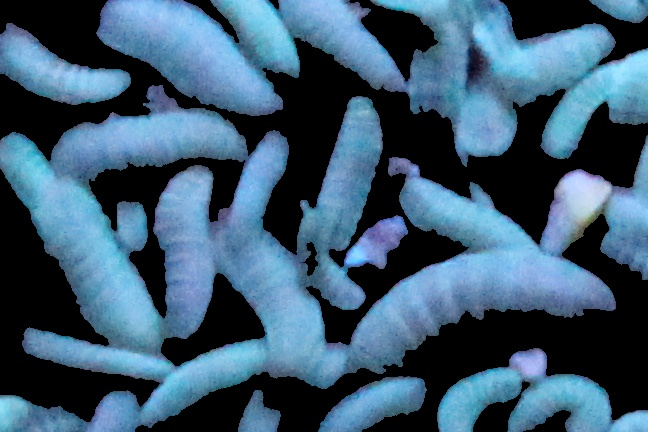larvae: (341, 258, 626, 387), (25, 185, 181, 375), (197, 192, 339, 384), (88, 1, 265, 126), (394, 147, 539, 281), (33, 100, 246, 176), (310, 90, 390, 274), (270, 1, 413, 100), (138, 334, 275, 415), (1, 22, 129, 105), (156, 167, 220, 332), (201, 1, 306, 94), (14, 327, 181, 381), (217, 127, 293, 229), (549, 51, 619, 159), (488, 27, 617, 81), (324, 379, 432, 432), (517, 373, 609, 432), (2, 135, 54, 211), (443, 373, 511, 425), (518, 1, 646, 23), (147, 1, 269, 4)
